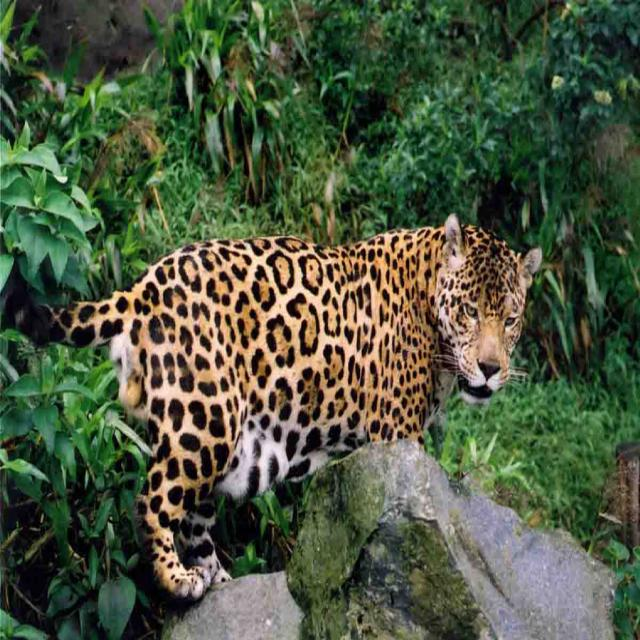Leopard: (0, 210, 541, 599)
